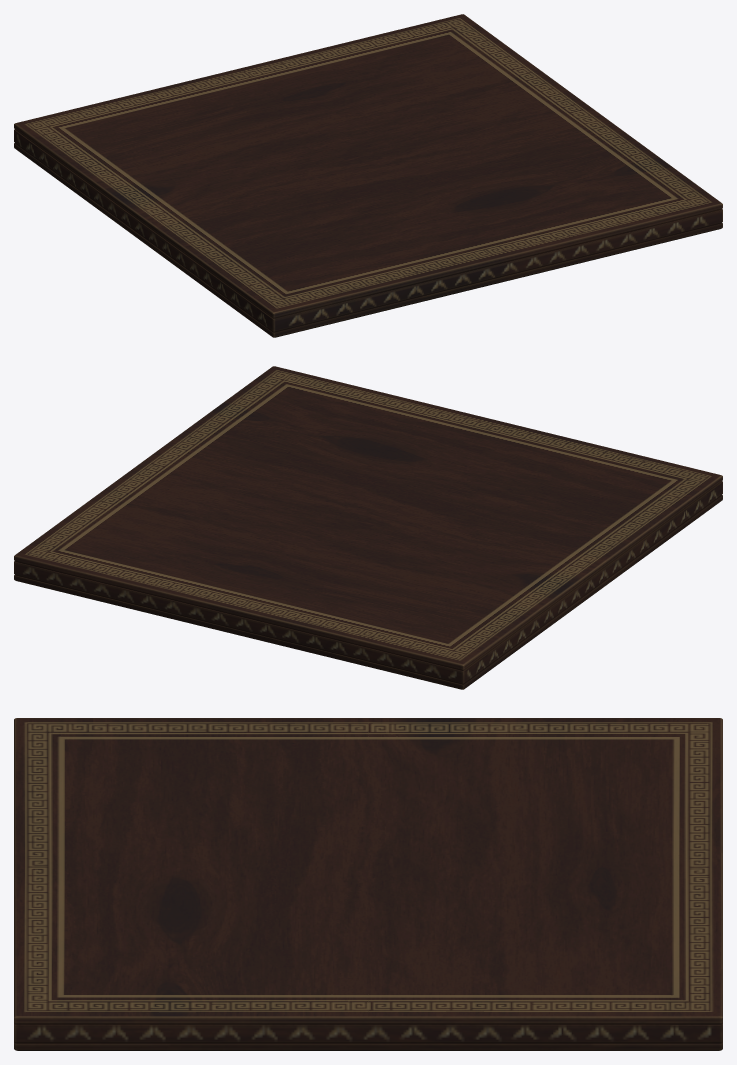
File: TraditionalKoreanHouse_TableTop.fbx
The picture shows the model from 3 angles, top to bottom: view 1: azimuth 30°, elevation 25°; view 2: azimuth 150°, elevation 25°; view 3: azimuth 270°, elevation 25°; orthographic projection. The views are drawn at different scales.
Visible parts, largest first — view 1: TraditionalKoreanHouse_TableTop; view 2: TraditionalKoreanHouse_TableTop; view 3: TraditionalKoreanHouse_TableTop.
Part boxes in pixels (<box>): TraditionalKoreanHouse_TableTop: <box>14,14,722,337</box>; TraditionalKoreanHouse_TableTop: <box>14,366,722,689</box>; TraditionalKoreanHouse_TableTop: <box>14,718,722,1050</box>.
Bounding box in the file's own units: 75 × 4.03 × 75.
